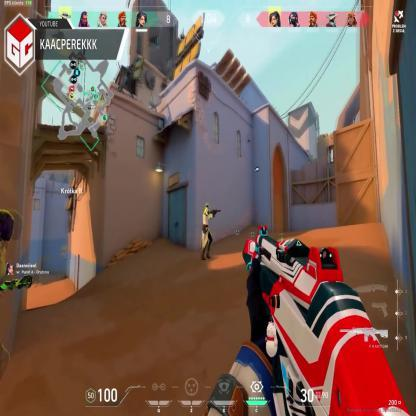enemy: (0, 206, 11, 389), (201, 204, 213, 266)
enemy_head: (0, 214, 14, 244), (206, 203, 210, 210)
